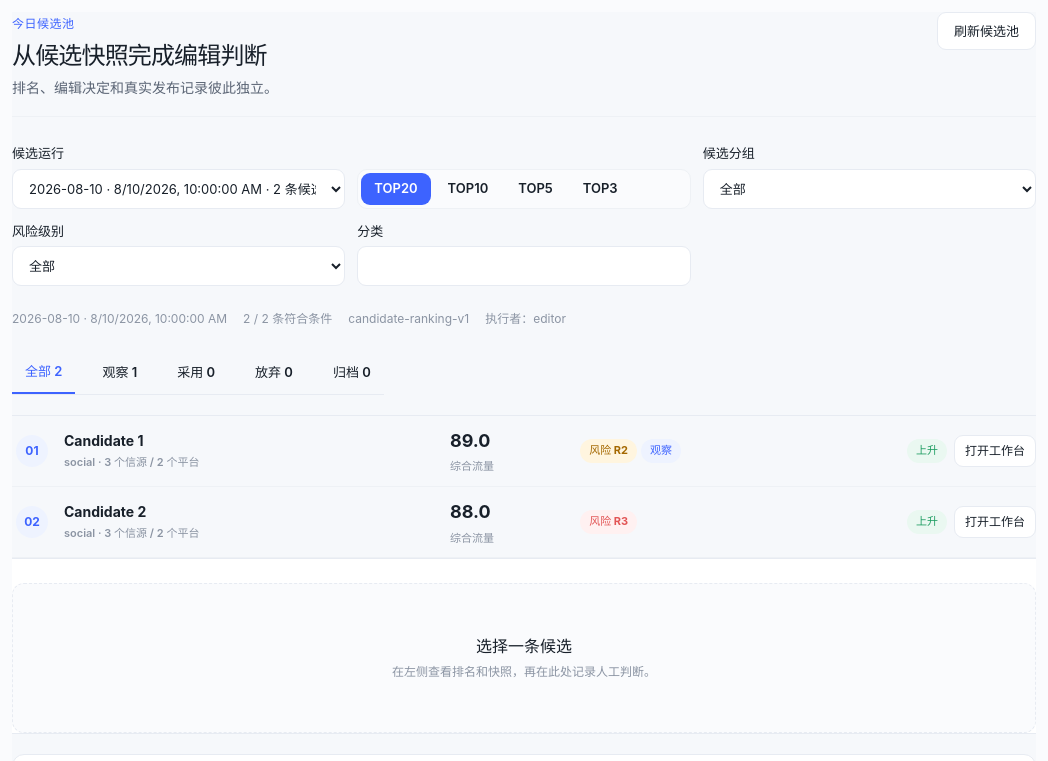
shows one snapshot with derived TOP views and Human Decision separately
expect the text "Candidate 1" is shown: met, box [64, 432, 144, 449]
expect the text "观察" is shown: met, box [641, 439, 681, 463]
Click the button "TOP3": (600, 189) [570, 173, 631, 205]
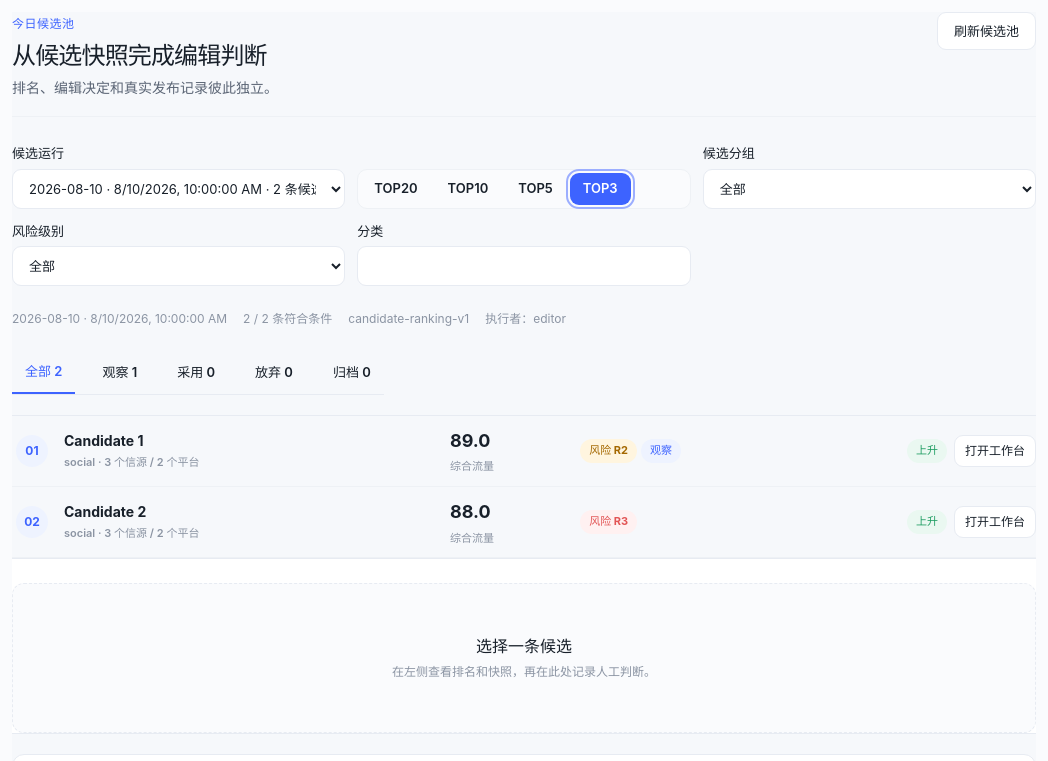
Click the button "01 Candidate 1 social · 3 个信源 / 2 个平台 89.0 综合流量 风险 R2 观察": (454, 451) [12, 423, 895, 479]
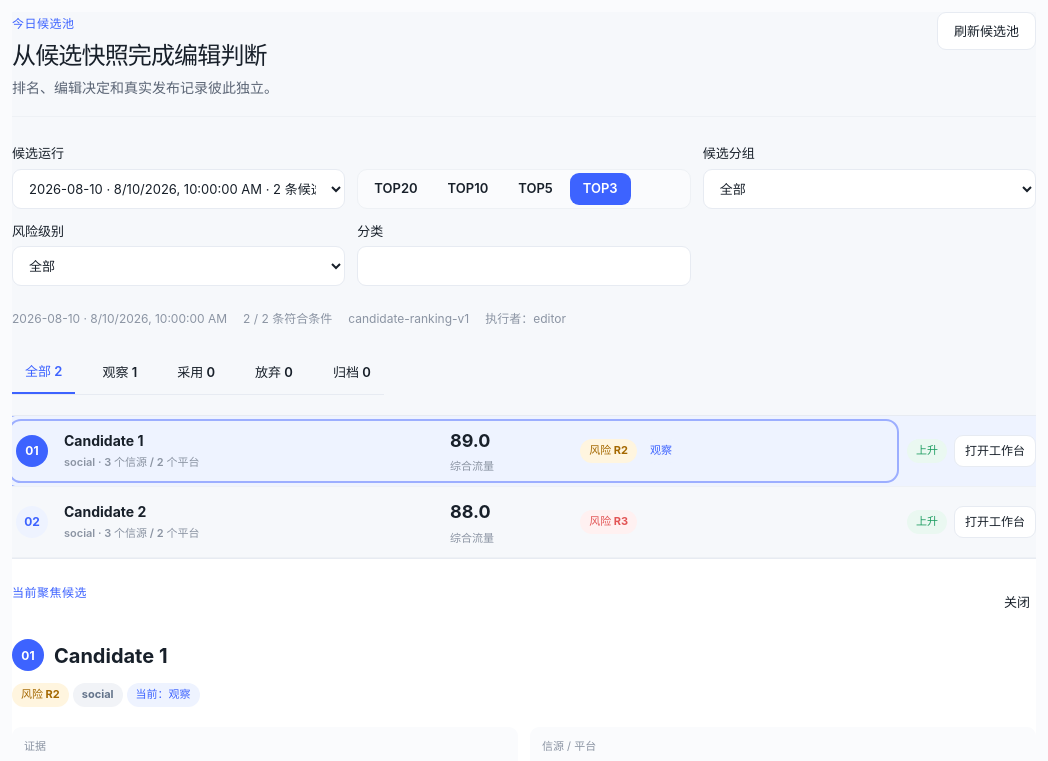
expect the text "当前聚焦候选" is shown: met, box [12, 583, 87, 602]
